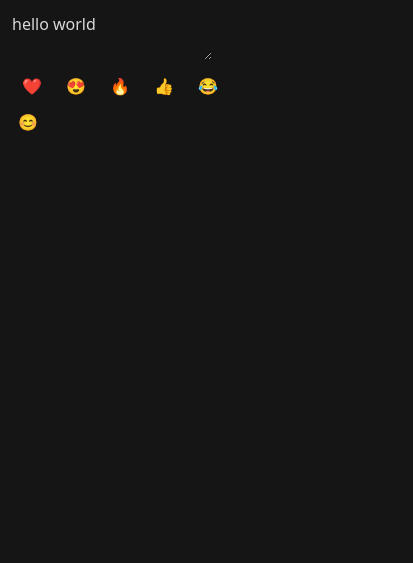
Test: EmojiBar › a pick replaces the selection at the caret, closes, and leads the quick row
Click the button named "Emoji picker" at (28, 122), box [12,106,44,138]
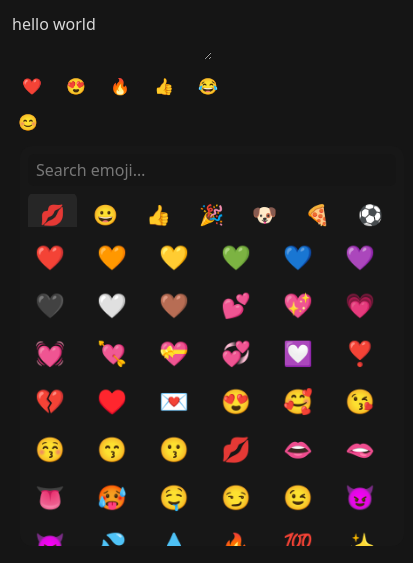
Type "puppy" into the field with placeholder "Search emoji…" at (212, 170), box [28,154,396,186]
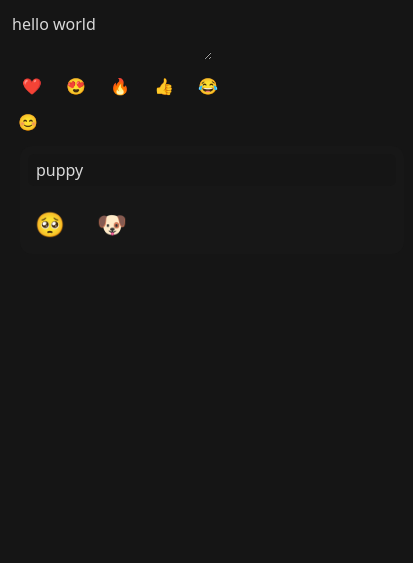
Click the button "🐶" at (112, 224), box [90,202,134,246]
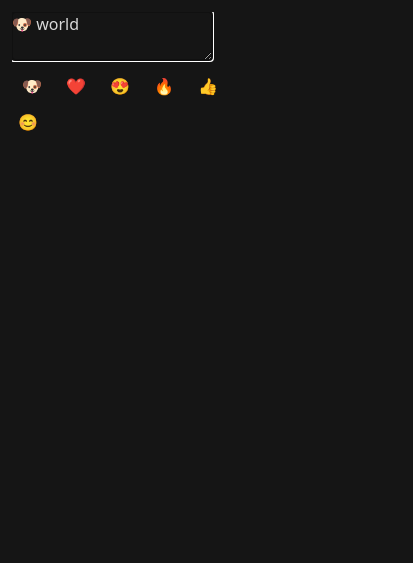
Expected: the field with placeholder "Search emoji…" is not shown
Now the text box named "draft" holds "🐶 world", box [12,12,212,60]
